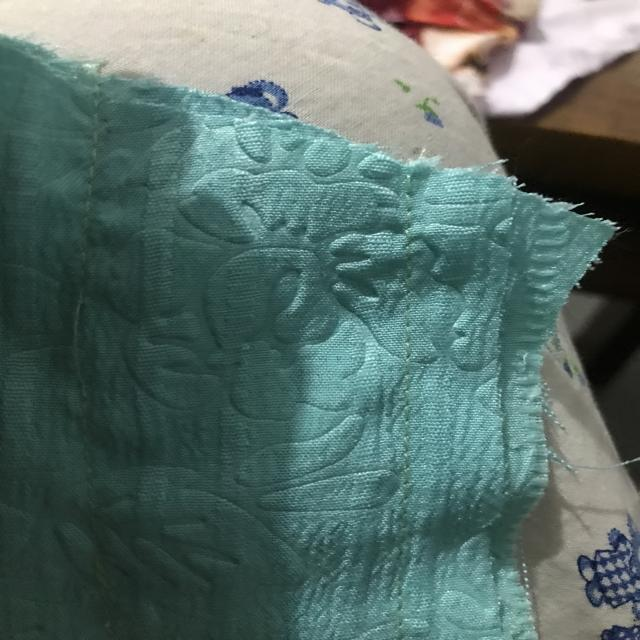good: (69, 136, 113, 219)
skip: (66, 262, 114, 409)
